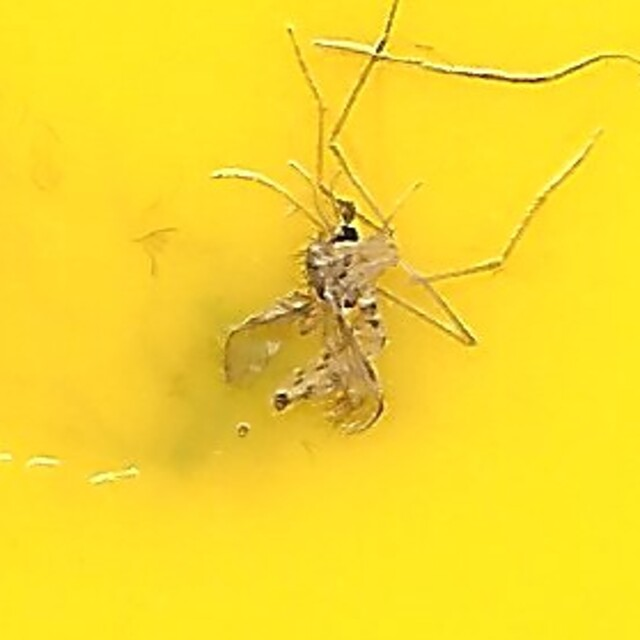Nematocera: (229, 205, 411, 435)
